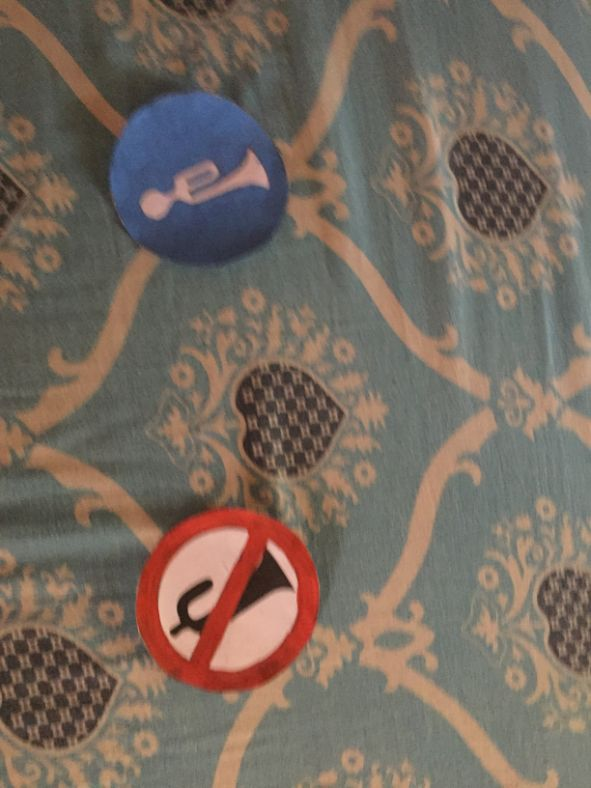blow-horn: (112, 90, 286, 264)
no-horn: (130, 504, 320, 694)
